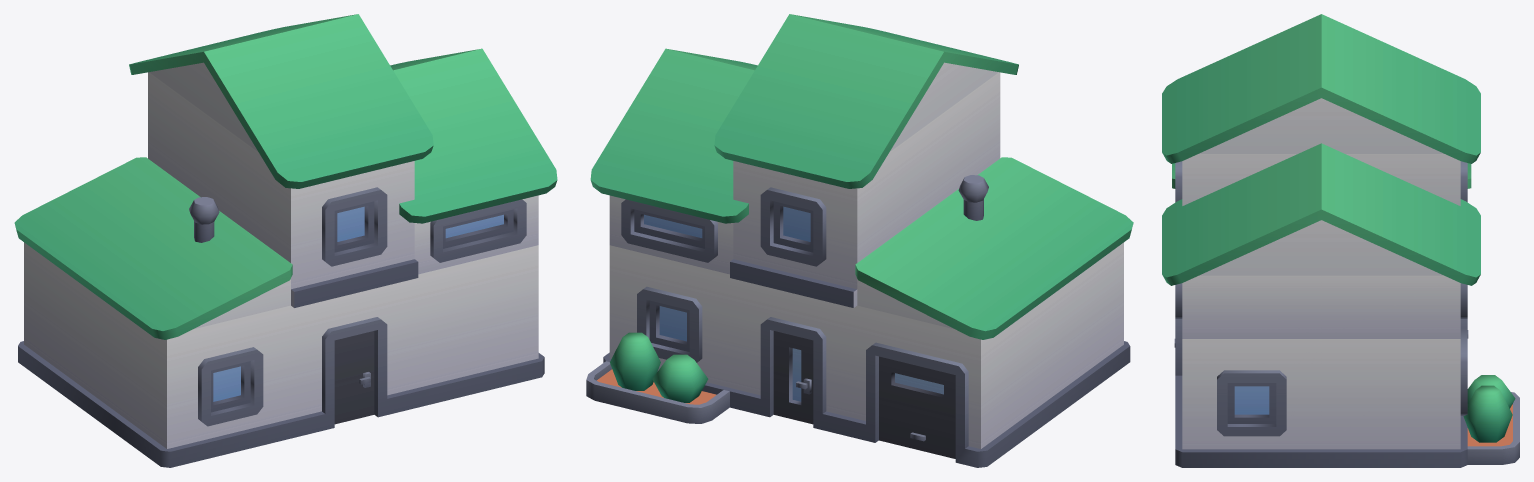
Rendered from sub-building-type-c.glb.
3 views of the same model, side by side, from view 1: azimuth 30°, elevation 25°; view 2: azimuth 150°, elevation 25°; view 3: azimuth 270°, elevation 25° (orthographic). The views are drawn at different scales.
Visible parts, largest first — view 1: building-type-c; view 2: building-type-c; view 3: building-type-c.
Part boxes in pixels (<box>): building-type-c: <box>14,14,557,467</box>; building-type-c: <box>586,14,1133,467</box>; building-type-c: <box>1162,14,1519,467</box>.
Size of the model in its own units: 12.86 by 10.34 by 10.28.
Materials: 1 (1 with a texture image).
